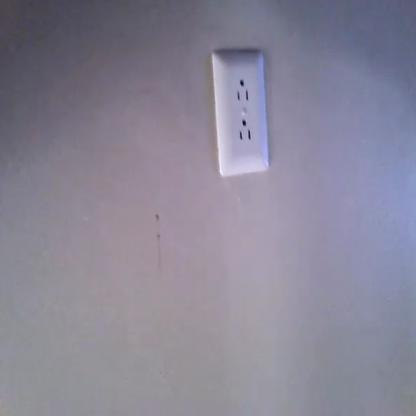OUTLET: (217, 50, 266, 177)
